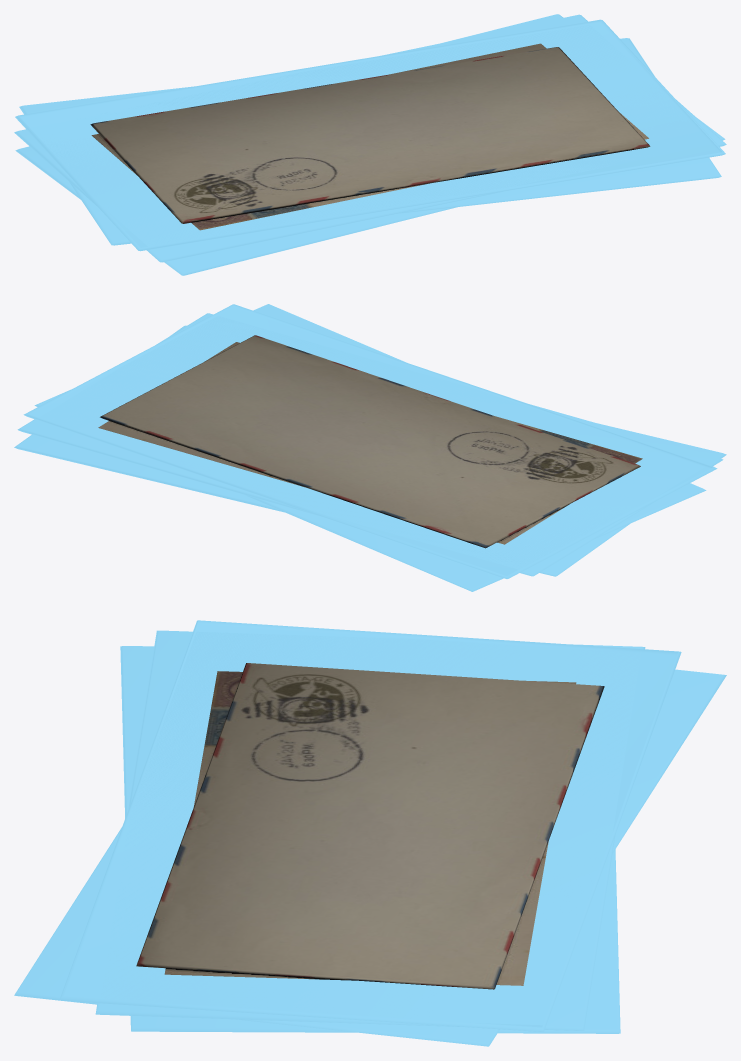
File: LetterBorder.glb
3 views of the same model, one above another, from view 1: azimuth 30°, elevation 25°; view 2: azimuth 150°, elevation 25°; view 3: azimuth 270°, elevation 25° (orthographic). The views are drawn at different scales.
Visible parts, largest first — view 1: Material_001-material, Material_001-material.001; view 2: Material_001-material, Material_001-material.001; view 3: Material_001-material, Material_001-material.001.
Boxes of the visible parts, bbox=[...] form: Material_001-material: bbox=[90, 43, 650, 230]; Material_001-material.001: bbox=[14, 14, 726, 275]; Material_001-material: bbox=[98, 335, 642, 548]; Material_001-material.001: bbox=[14, 304, 726, 591]; Material_001-material: bbox=[136, 663, 604, 989]; Material_001-material.001: bbox=[14, 620, 726, 1046].
Bounding box in the file's own units: 2.81 × 0.0569 × 2.01.
Materials: 2 (1 with a texture image).
